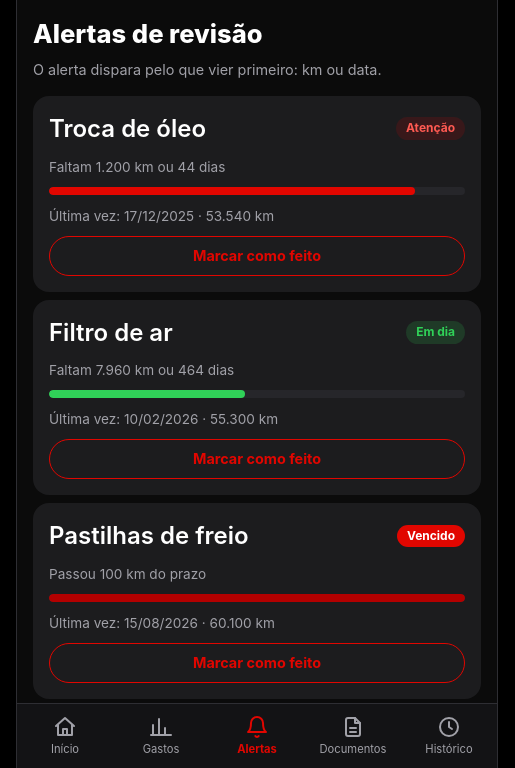
Test case: T05 · Alertas de revisão › permite cancelar sem registrar nada
The width and height of the screenshot is (515, 768).
Click the button "Marcar como feito" below "Troca de óleo". click: (257, 256)
box: [49,236,465,276]
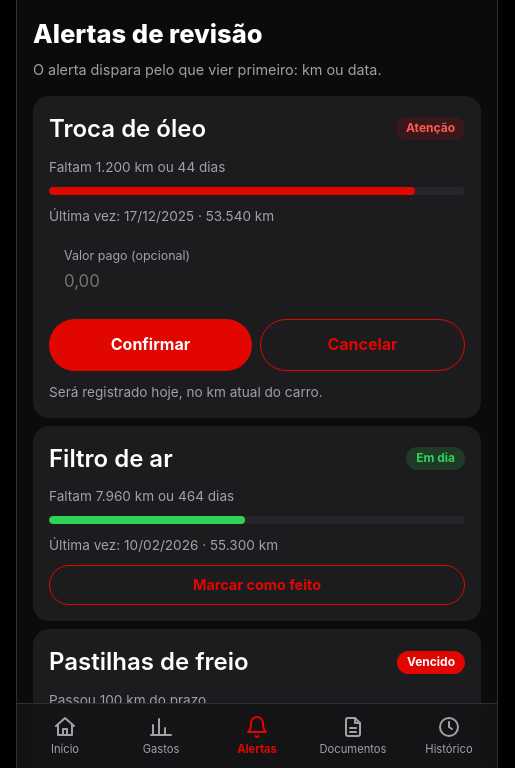
Click the button "Cancelar". click: (362, 345)
box: [260,319,465,371]
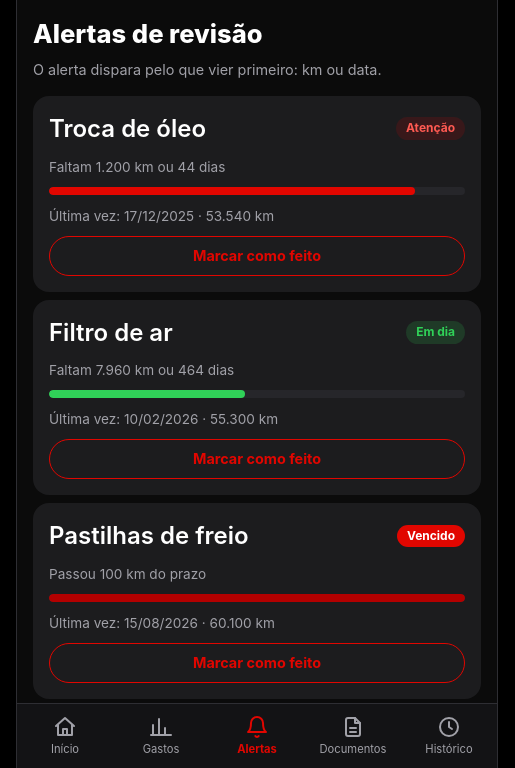
Expected: the button "Marcar como feito" below "Troca de óleo" is shown, [49,236,465,276]
